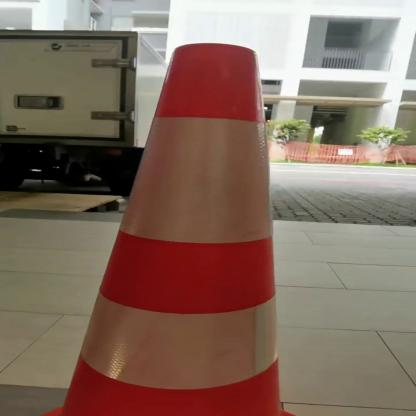cone: (38, 35, 321, 416)
